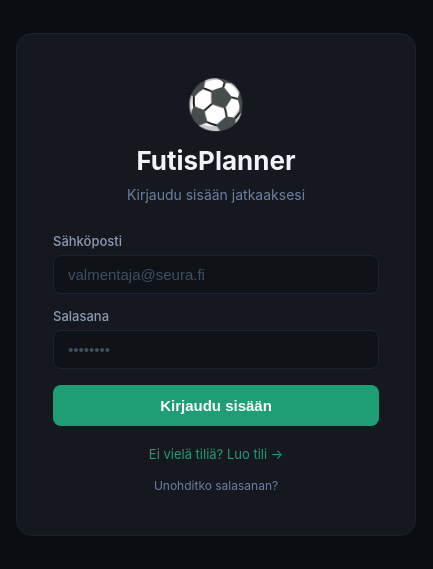
Test: AuthPage › näyttää virheviestin epäonnistuneen kirjautumisen jälkeen
Type "testi@email.com" into the field with placeholder "valmentaja@seura.fi" at (216, 274), box [53, 254, 379, 294]
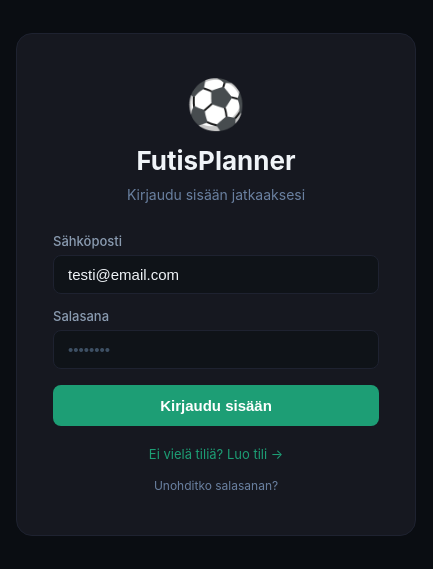
Type "vaara" into the password field with placeholder "••••••••" at (216, 349), box [53, 330, 379, 368]
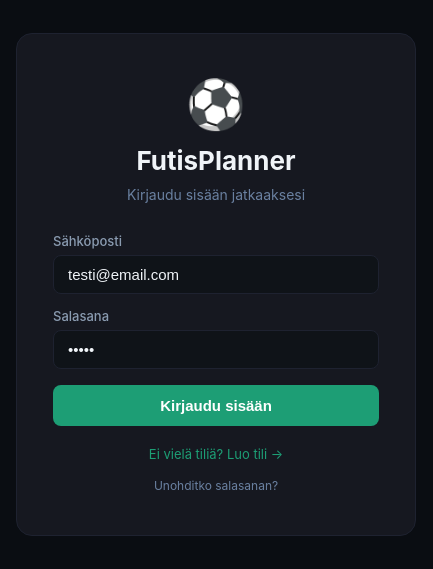
Click the button "Kirjaudu sisään" at (216, 405), box [53, 384, 379, 426]
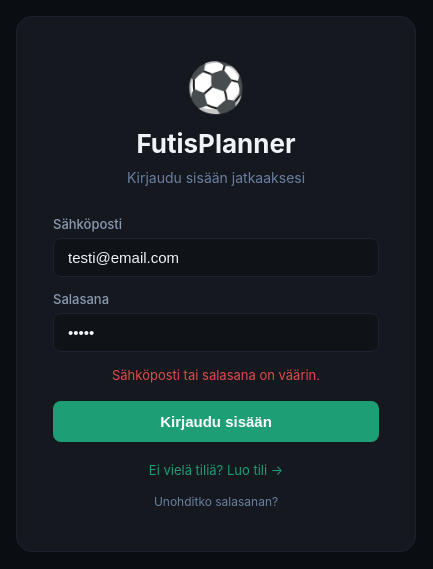
Result: the text "Sähköposti tai salasana on väärin." is shown at [112, 367, 320, 383]
